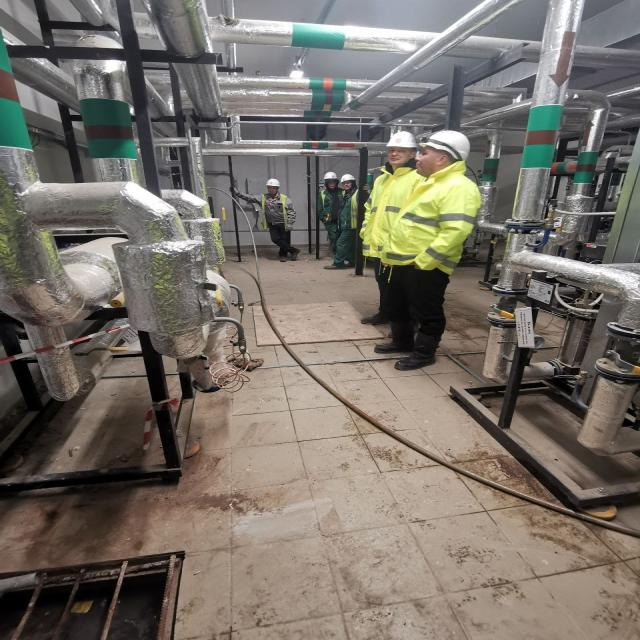Helmet: (414, 132, 471, 179), (386, 132, 418, 167), (324, 173, 341, 192), (266, 180, 282, 196), (342, 175, 357, 192)
